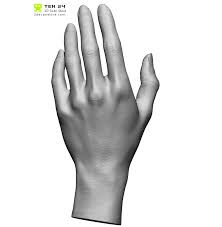hand: (43, 5, 169, 182)
